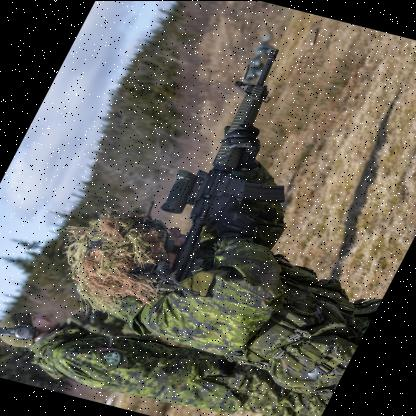rifle: (133, 32, 349, 292)
